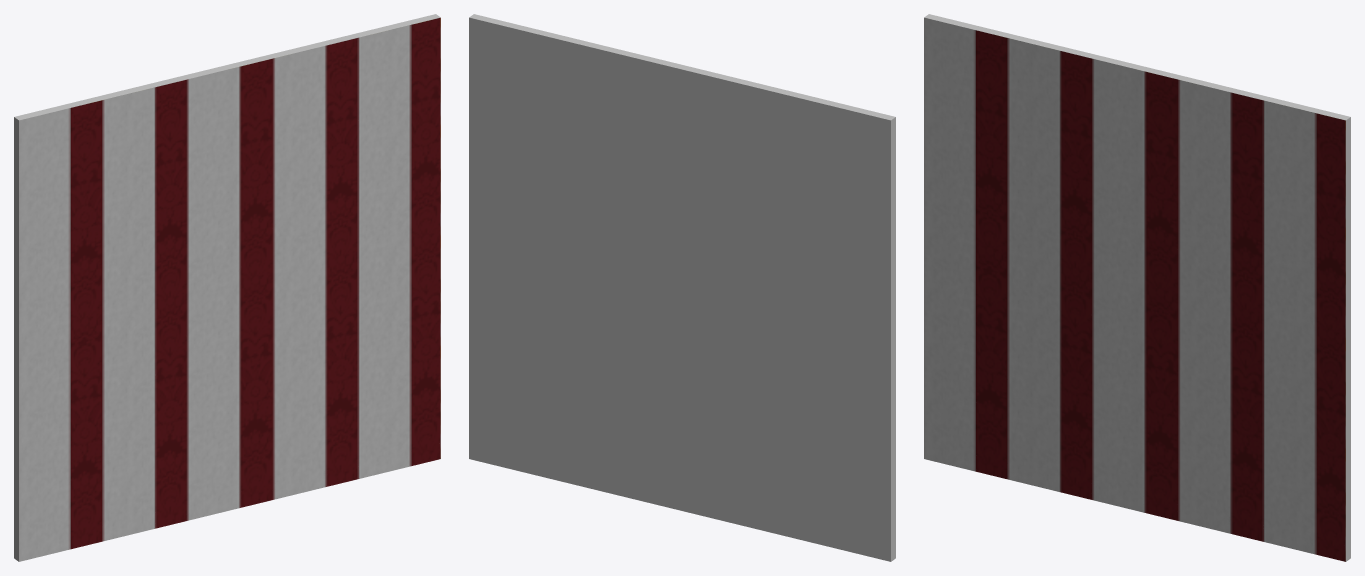
The model's file is Wall_Plain_05.FBX.
3 views of the same model, side by side, from view 1: azimuth 30°, elevation 25°; view 2: azimuth 150°, elevation 25°; view 3: azimuth 330°, elevation 25° (orthographic).
Visible parts, largest first — view 1: Wall_Plain_01; view 2: Wall_Plain_01; view 3: Wall_Plain_01.
Part boxes in pixels (x1,y1,x2,y2): Wall_Plain_01: (14, 14, 440, 561); Wall_Plain_01: (469, 14, 895, 561); Wall_Plain_01: (924, 14, 1350, 561).
Size of the model in its own units: 19685 by 19685 by 394.
